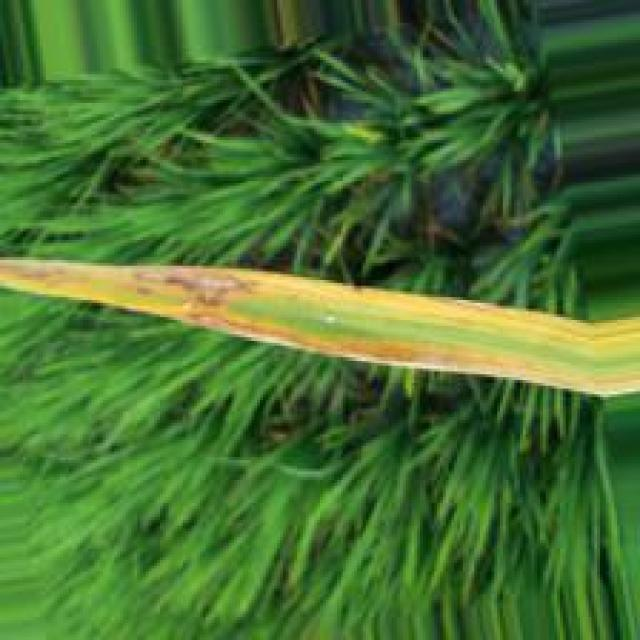Bacterial_Leaf_Blight: (0, 255, 576, 387)
